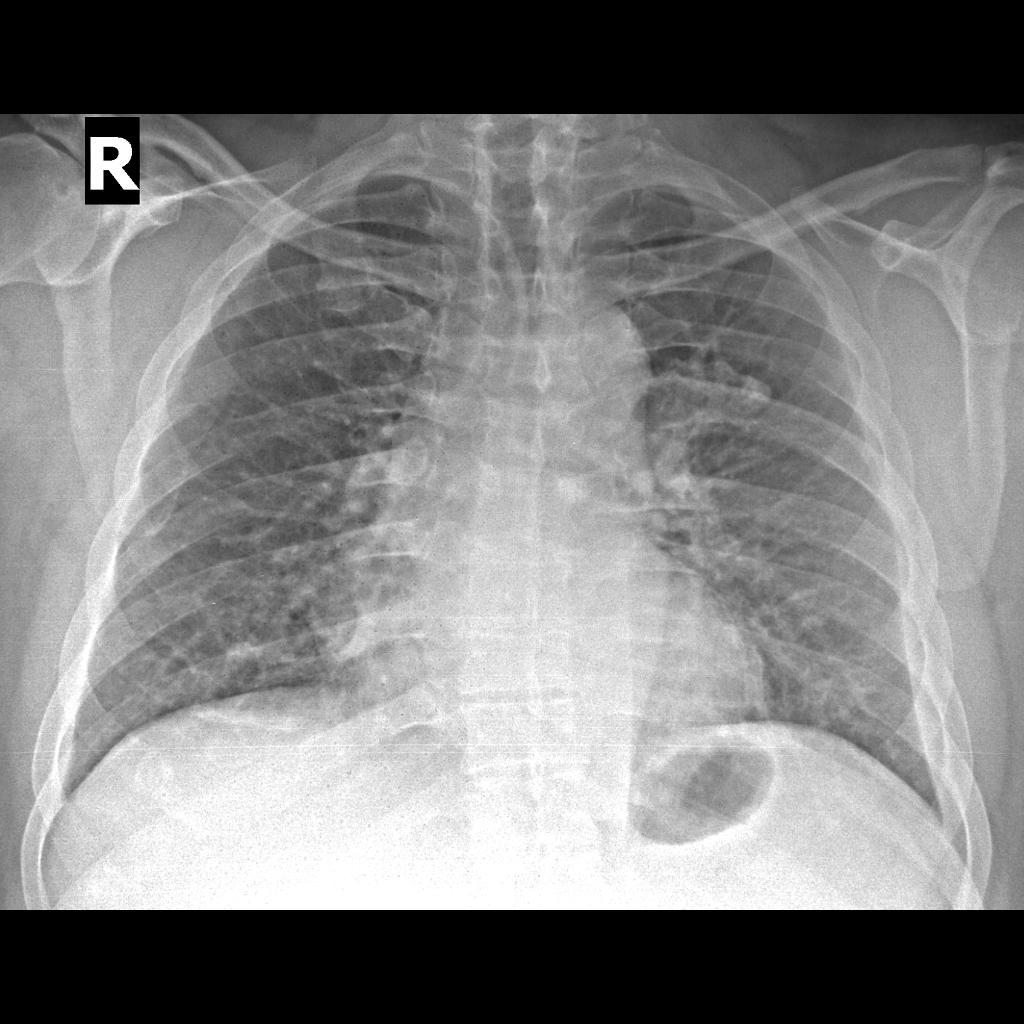Nodule: (727, 367, 788, 428)
